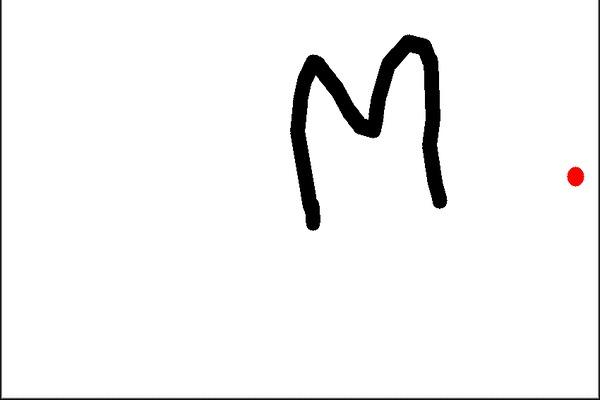M: (287, 28, 448, 235)
